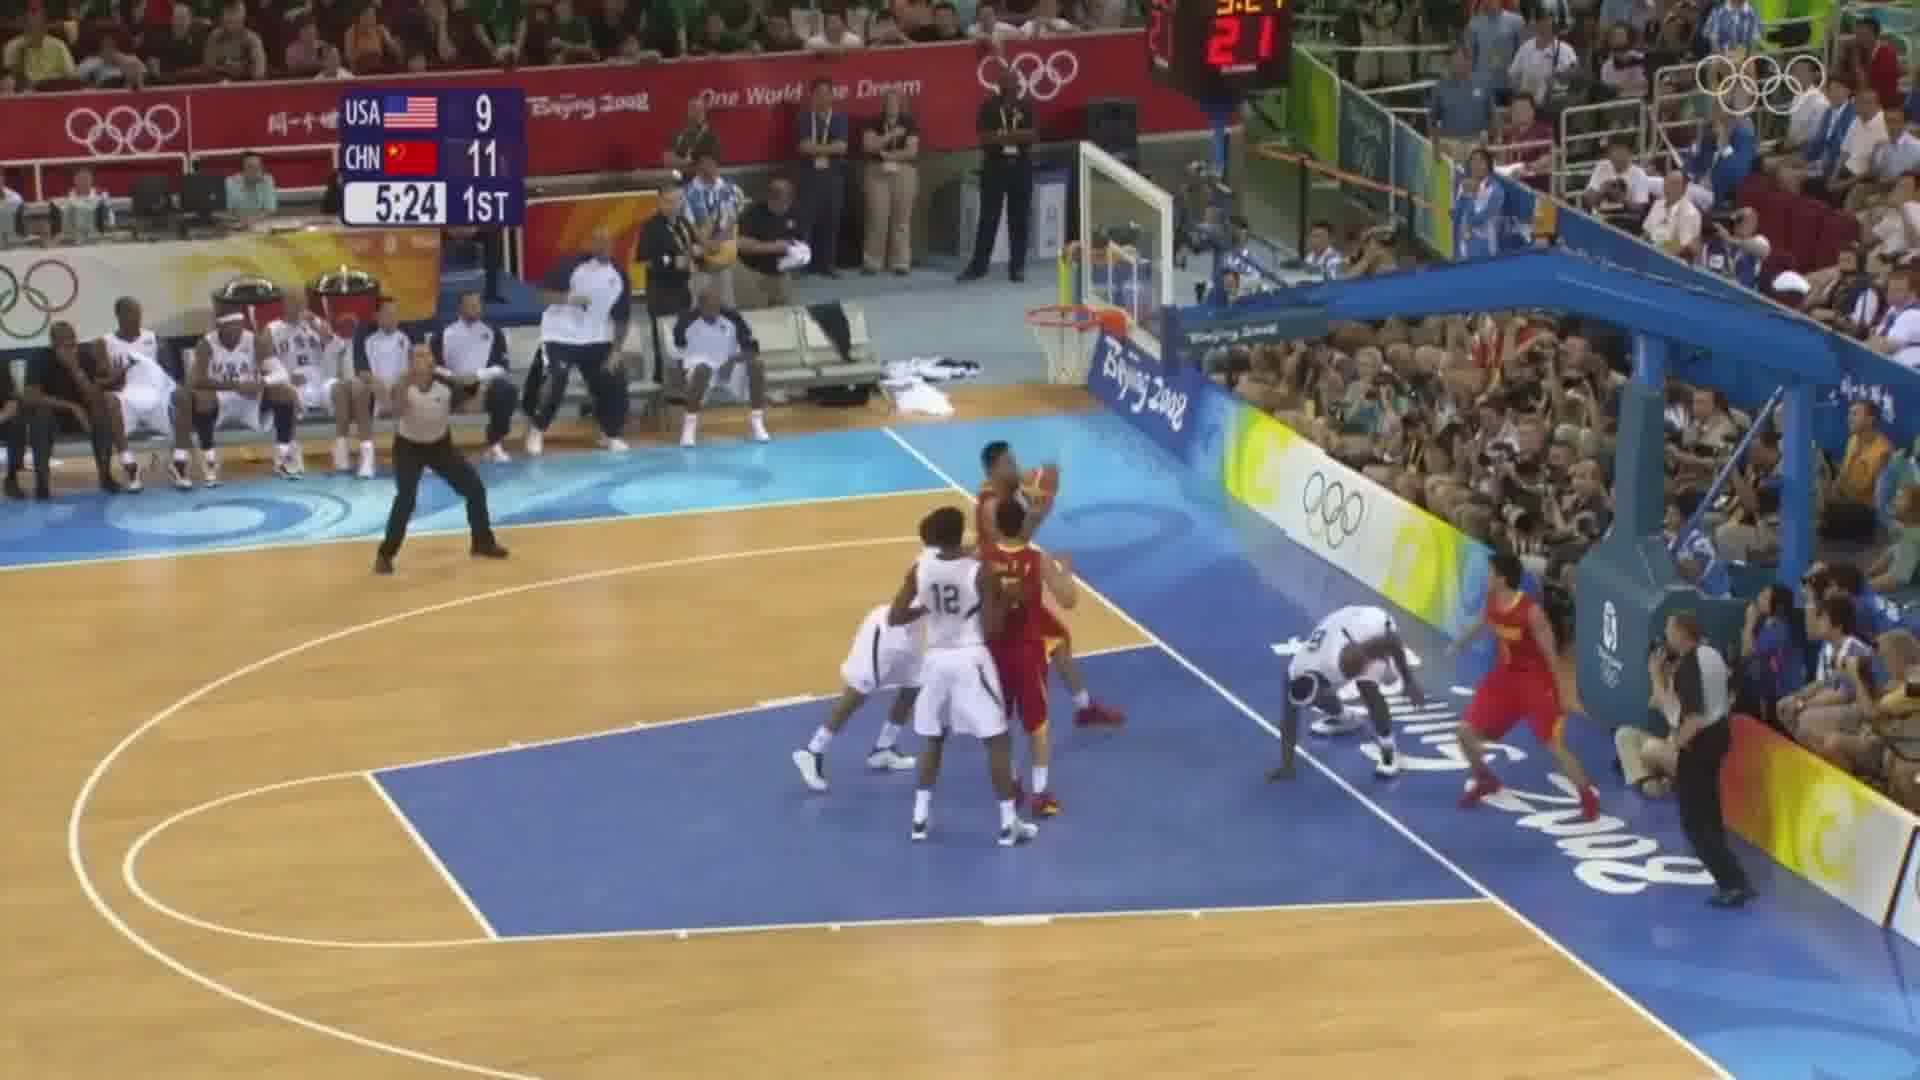ball: (1010, 459, 1067, 510)
net: (1022, 299, 1102, 397)
